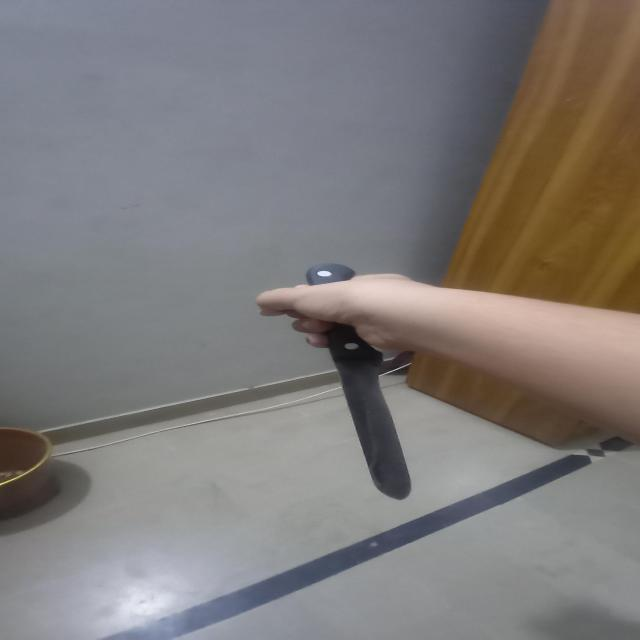Knife: (308, 263, 412, 499)
Person: (257, 275, 640, 445)
